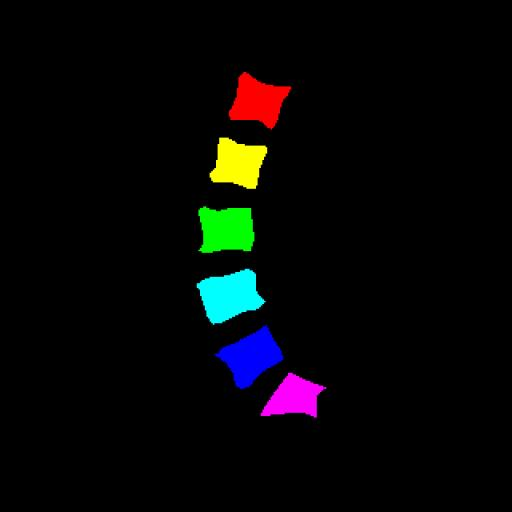L1: (229, 72, 291, 128)
L2: (210, 137, 267, 189)
L3: (198, 207, 254, 253)
L4: (197, 269, 265, 324)
L5: (215, 326, 283, 388)
S1: (261, 373, 326, 418)
